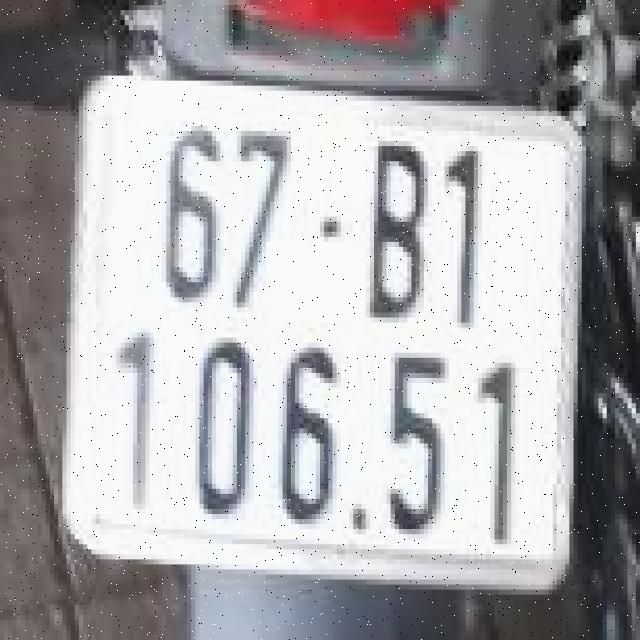0: (177, 325, 256, 542)
1: (461, 355, 528, 562), (104, 320, 158, 517), (447, 134, 492, 340)
5: (384, 340, 447, 547)
6: (272, 328, 339, 529), (166, 126, 220, 302)
7: (231, 123, 301, 310)
B: (362, 134, 428, 320)
